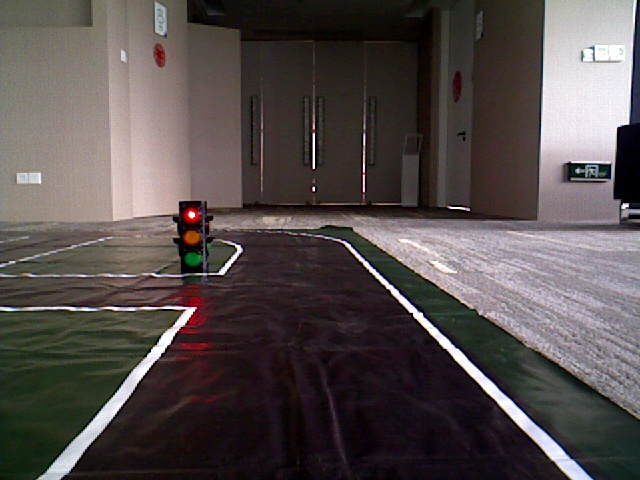red: (179, 200, 203, 266)
